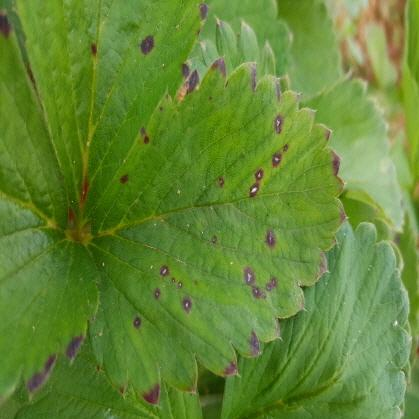Leaf Spot: (77, 55, 348, 408), (13, 0, 208, 229)
